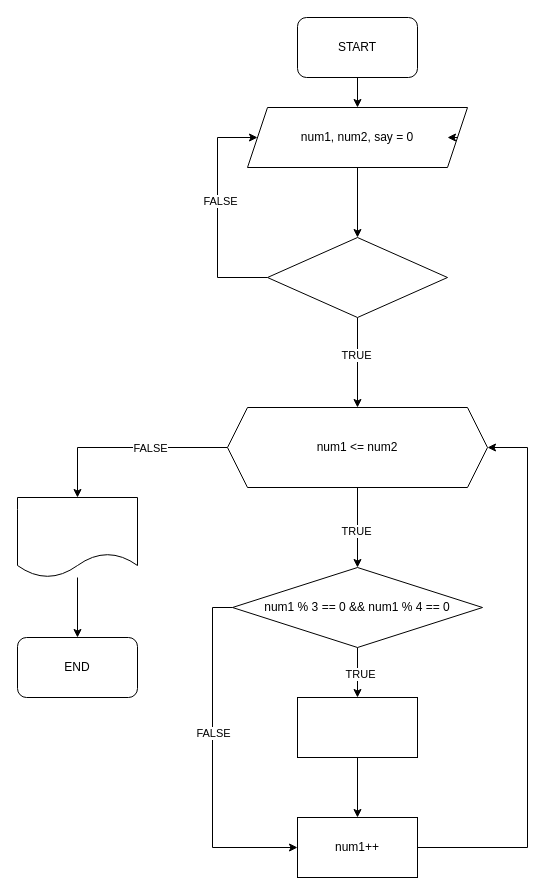
Image size: 553x895. Some labels were removed from this diagram. Here are the shapes that lost their labels. From the top down, the centre of each, then its label:
At point (357, 277): "num1 < num2".
At point (77, 537): "say".
At point (357, 727): "say++".
